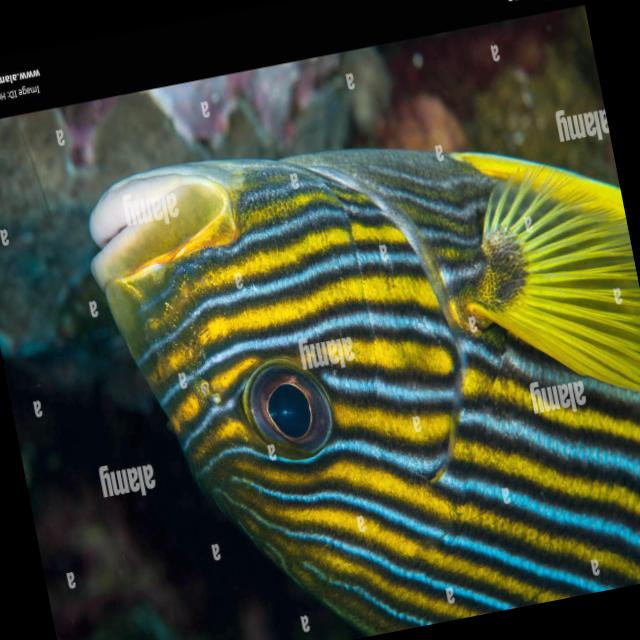RibbonedSweetlips: (73, 78, 640, 640)
